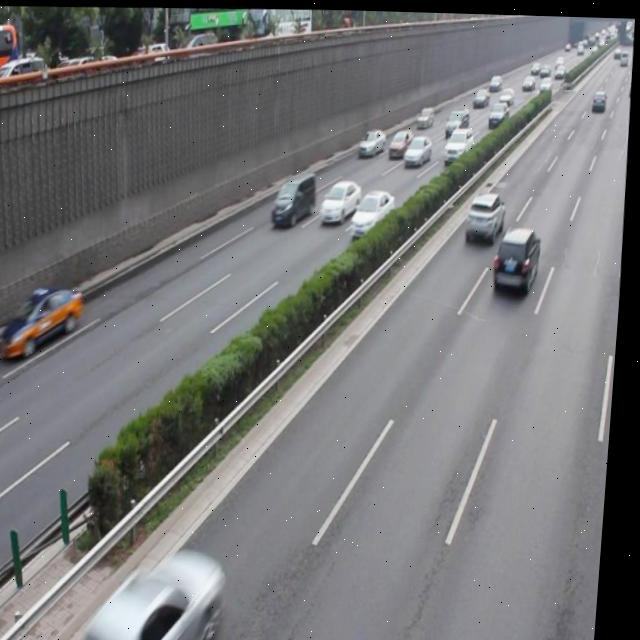car: (71, 545, 231, 640), (4, 284, 89, 359), (492, 222, 544, 290), (464, 189, 507, 243), (351, 185, 398, 232), (320, 176, 364, 222)
truck: (270, 166, 319, 226)
